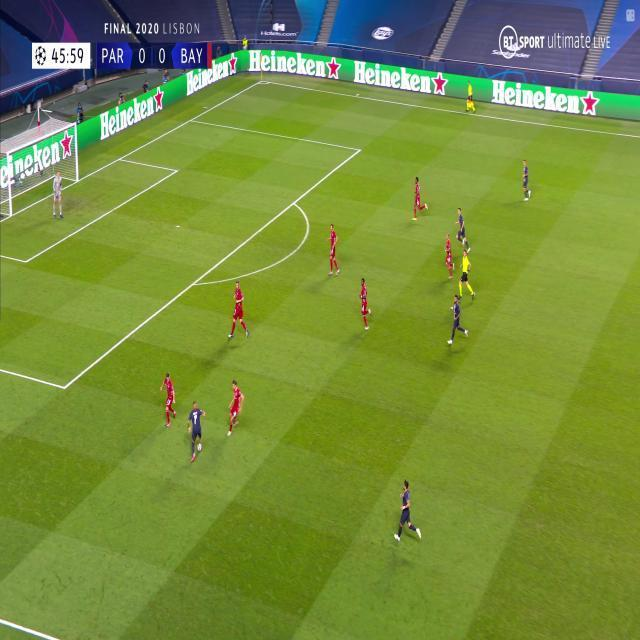ball: (197, 442, 202, 454)
goalkeeper: (53, 171, 64, 221)
player: (393, 478, 420, 550), (186, 398, 207, 468), (227, 279, 249, 344), (447, 295, 470, 351), (158, 370, 178, 428), (226, 378, 244, 436), (356, 278, 373, 332), (411, 175, 429, 222), (325, 223, 340, 278), (455, 207, 471, 253), (443, 233, 456, 281), (521, 158, 532, 202)
referee: (458, 248, 477, 302), (465, 81, 475, 114)
